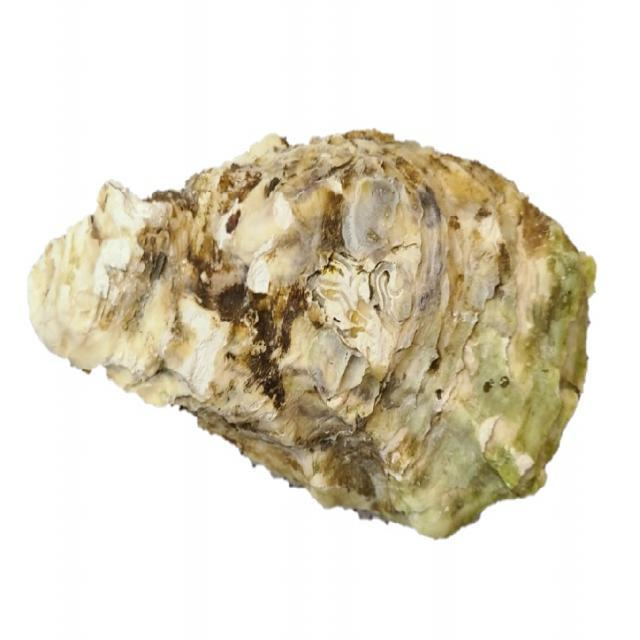Oyster- Indeterminate: (22, 125, 600, 550)
